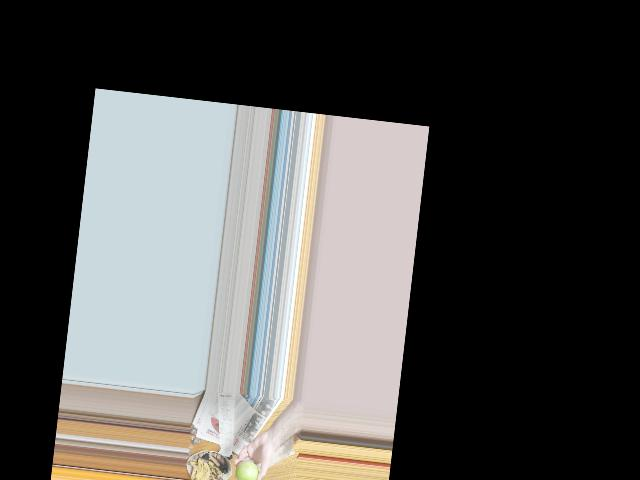apple: (233, 460, 259, 480)
